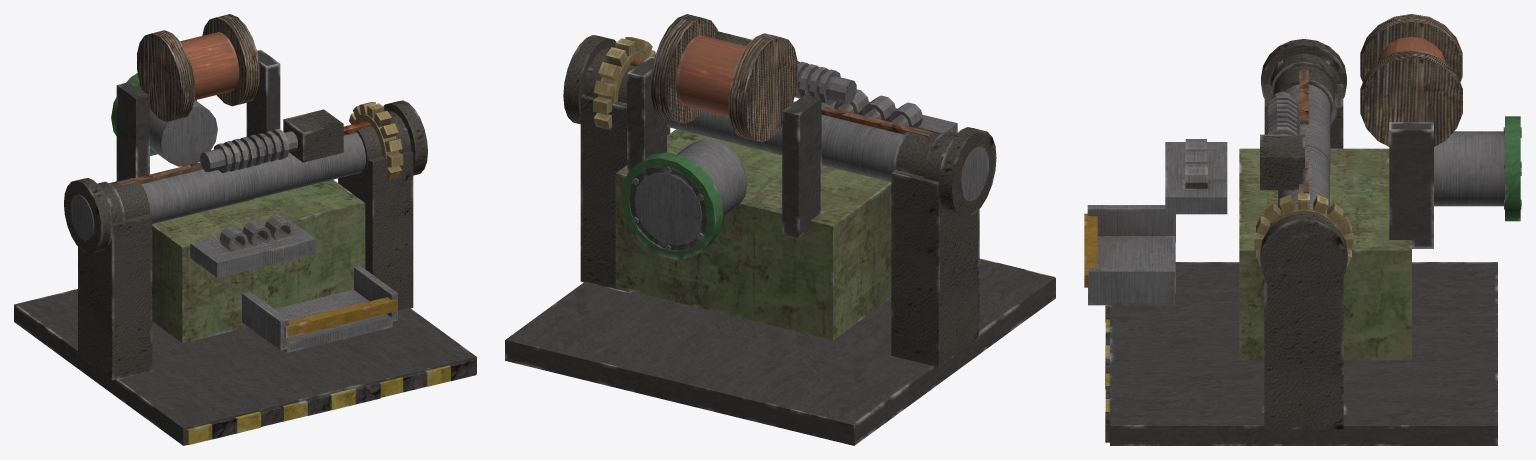
Rendered from feSpringCoiler_HD.fbx.
The picture shows the model from 3 angles, left to right: view 1: azimuth 30°, elevation 25°; view 2: azimuth 150°, elevation 25°; view 3: azimuth 270°, elevation 25°; orthographic projection. The views are drawn at different scales.
Visible parts, largest first — view 1: feSpringCoiler_Base, FeSpin_DriveShaft, FeSpin_x0.5_Spool, FeSpin_x3_Mandrel; view 2: feSpringCoiler_Base, FeSpin_DriveShaft, FeSpin_x0.5_Spool, FeSpin_x3_Mandrel; view 3: feSpringCoiler_Base, FeSpin_DriveShaft, FeSpin_x0.5_Spool, FeSpin_x3_Mandrel.
Boxes of the visible parts, bbox=[...] form: feSpringCoiler_Base: bbox=[14, 49, 476, 445]; FeSpin_DriveShaft: bbox=[64, 100, 427, 253]; FeSpin_x0.5_Spool: bbox=[137, 14, 260, 121]; FeSpin_x3_Mandrel: bbox=[200, 129, 297, 173]; feSpringCoiler_Base: bbox=[505, 31, 1055, 445]; FeSpin_DriveShaft: bbox=[563, 35, 996, 217]; FeSpin_x0.5_Spool: bbox=[651, 14, 797, 142]; FeSpin_x3_Mandrel: bbox=[794, 61, 856, 105]; feSpringCoiler_Base: bbox=[1084, 65, 1521, 445]; FeSpin_DriveShaft: bbox=[1254, 39, 1353, 299]; FeSpin_x0.5_Spool: bbox=[1360, 14, 1462, 146]; FeSpin_x3_Mandrel: bbox=[1264, 91, 1300, 134].
Bounding box in the file's own units: 1 × 0.8418 × 1.02.
1 material, 1 textured.
